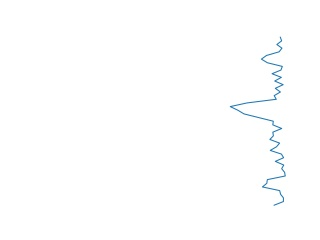interdistributaryEstuary: (228, 38, 293, 206)
